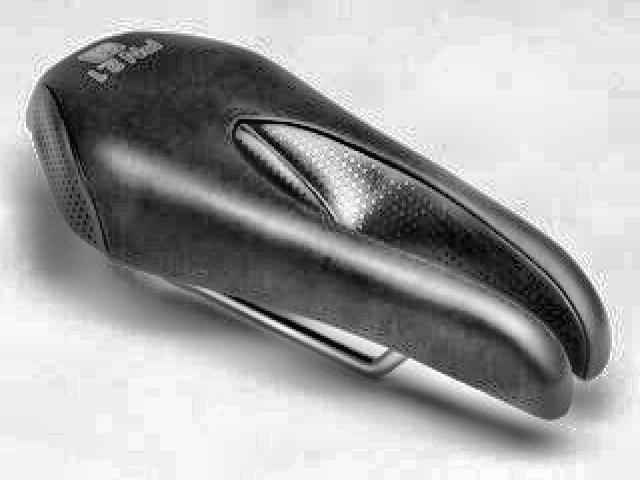saddle: (25, 27, 617, 436)
